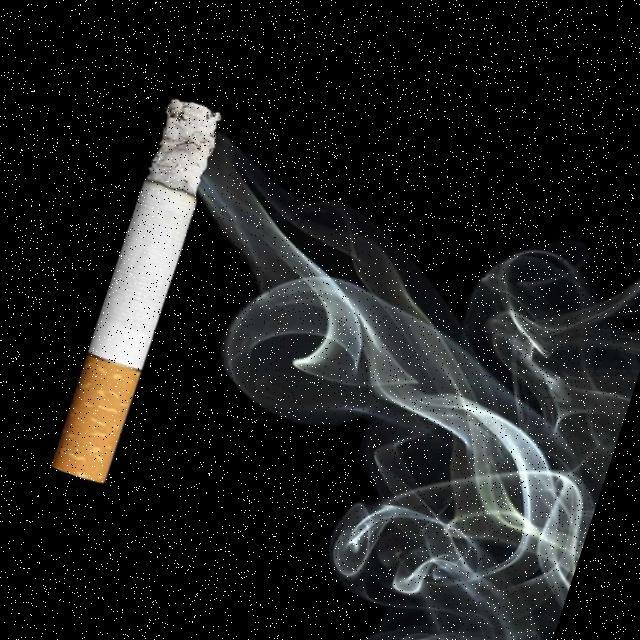cigarette: (43, 92, 246, 492)
